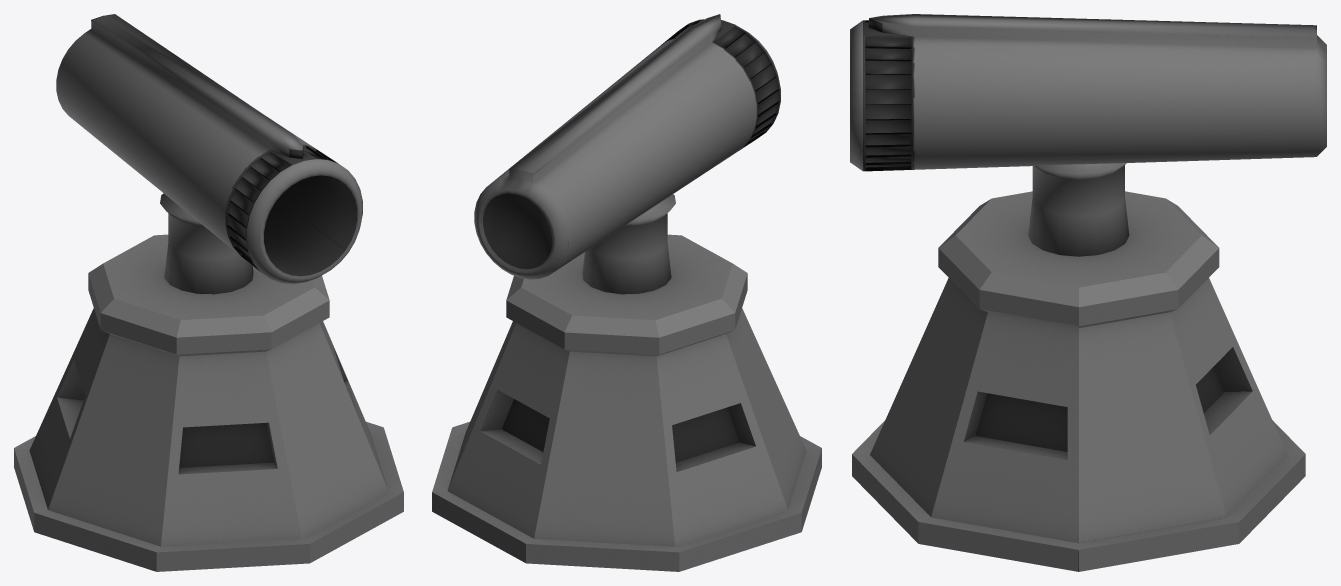
File: cannon.glb
3 views of the same model, side by side, from view 1: azimuth 30°, elevation 25°; view 2: azimuth 150°, elevation 25°; view 3: azimuth 270°, elevation 25° (orthographic). The views are drawn at different scales.
Parts seen in each view (by area): view 1: stand, cannon; view 2: stand, cannon; view 3: stand, cannon.
Part boxes in pixels (x1,y1,x2,y2): stand: (14,193,403,571); cannon: (56,14,362,284); stand: (432,194,821,571); cannon: (474,14,780,279); stand: (852,163,1305,571); cannon: (850,14,1326,171).
Size of the model in its own units: 7.06 by 7.86 by 7.42.
4 materials, 4 textured.
